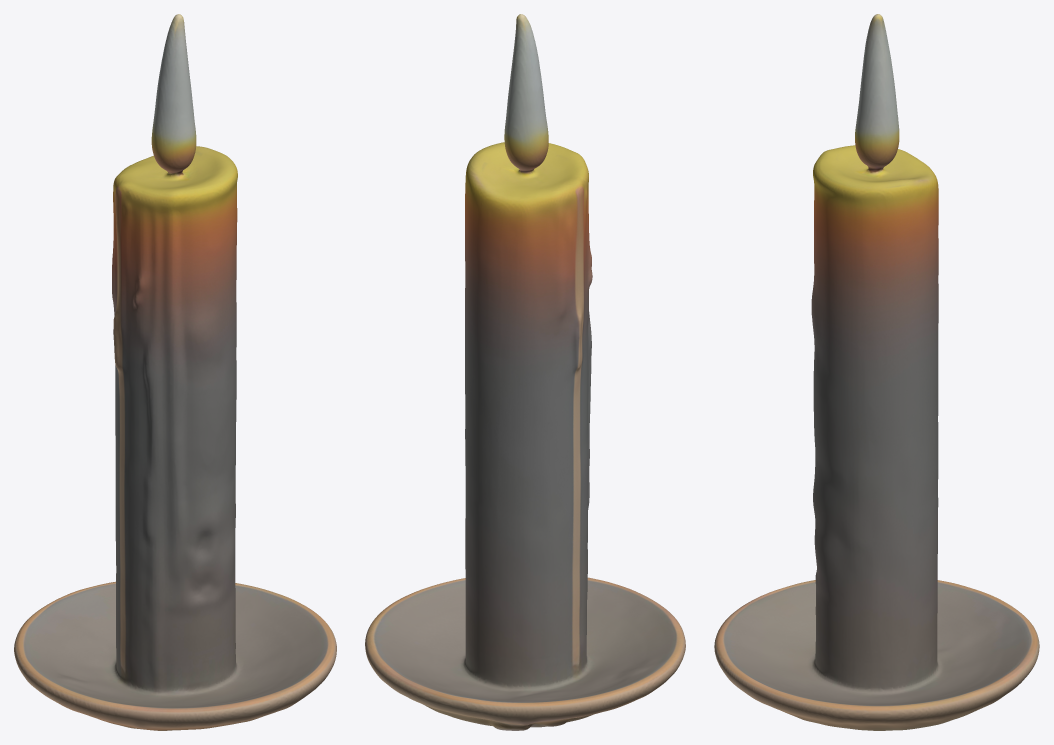
Rendered from candle-09.glb.
3 views of the same model, side by side, from view 1: azimuth 30°, elevation 25°; view 2: azimuth 150°, elevation 25°; view 3: azimuth 270°, elevation 25° (orthographic).
Parts seen in each view (by area): view 1: tripo_node_bdfb56fa-4cb5-4e45-89d8-1f78d4da1386; view 2: tripo_node_bdfb56fa-4cb5-4e45-89d8-1f78d4da1386; view 3: tripo_node_bdfb56fa-4cb5-4e45-89d8-1f78d4da1386.
Boxes of the visible parts, x1,y1,x2,y2 form: tripo_node_bdfb56fa-4cb5-4e45-89d8-1f78d4da1386: [14, 14, 336, 730]; tripo_node_bdfb56fa-4cb5-4e45-89d8-1f78d4da1386: [365, 14, 685, 730]; tripo_node_bdfb56fa-4cb5-4e45-89d8-1f78d4da1386: [714, 14, 1039, 730].
Bounding box in the file's own units: 0.4077 × 0.9485 × 0.4087.
Materials: 1 (1 with a texture image).
